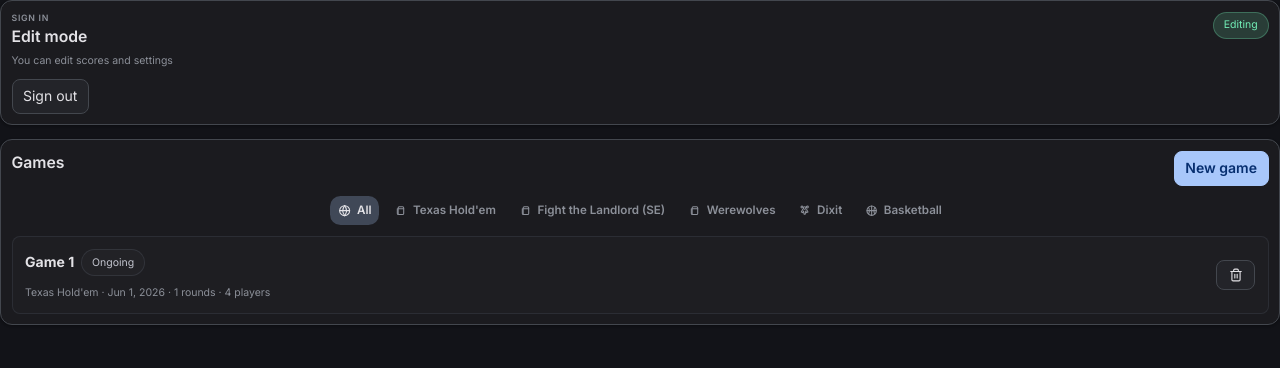
Test: GamesPage › surfaces delete failures to the user
Click the button named "Delete Game 1" at (1236, 275), box left=1216, top=260, right=1255, bottom=290
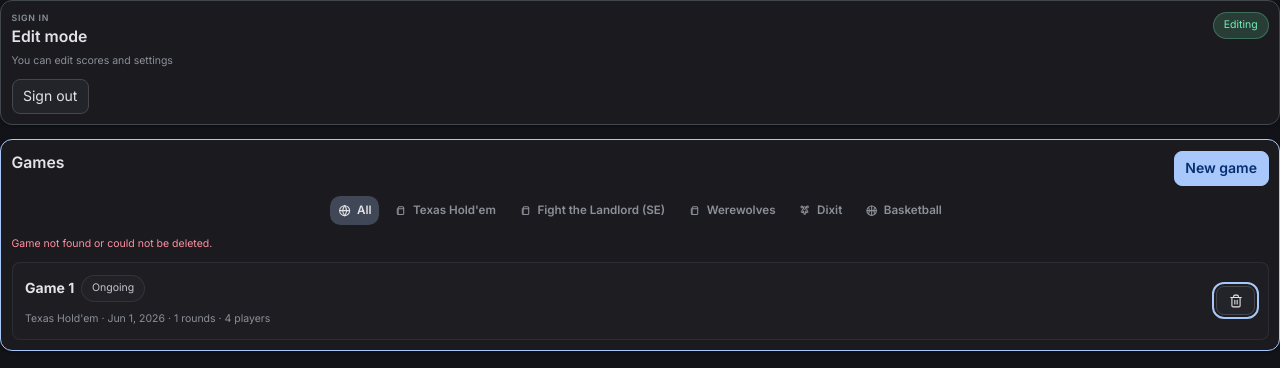
Expected: the text "Game not found or could not be deleted." is shown, left=12, top=237, right=212, bottom=250
